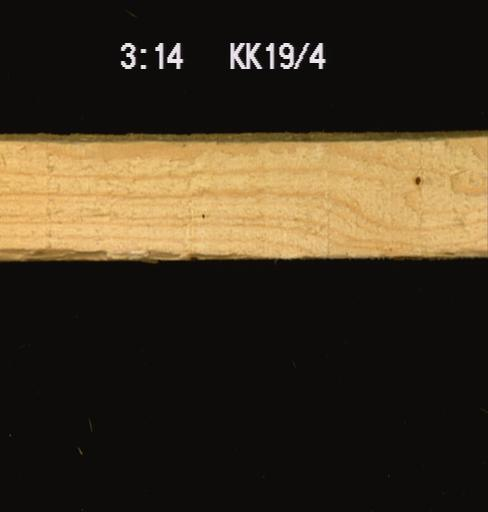small_knot: (411, 171, 422, 187)
